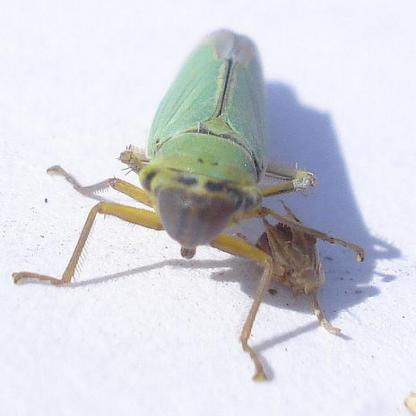Green-Leafhopper: (15, 26, 369, 386)
